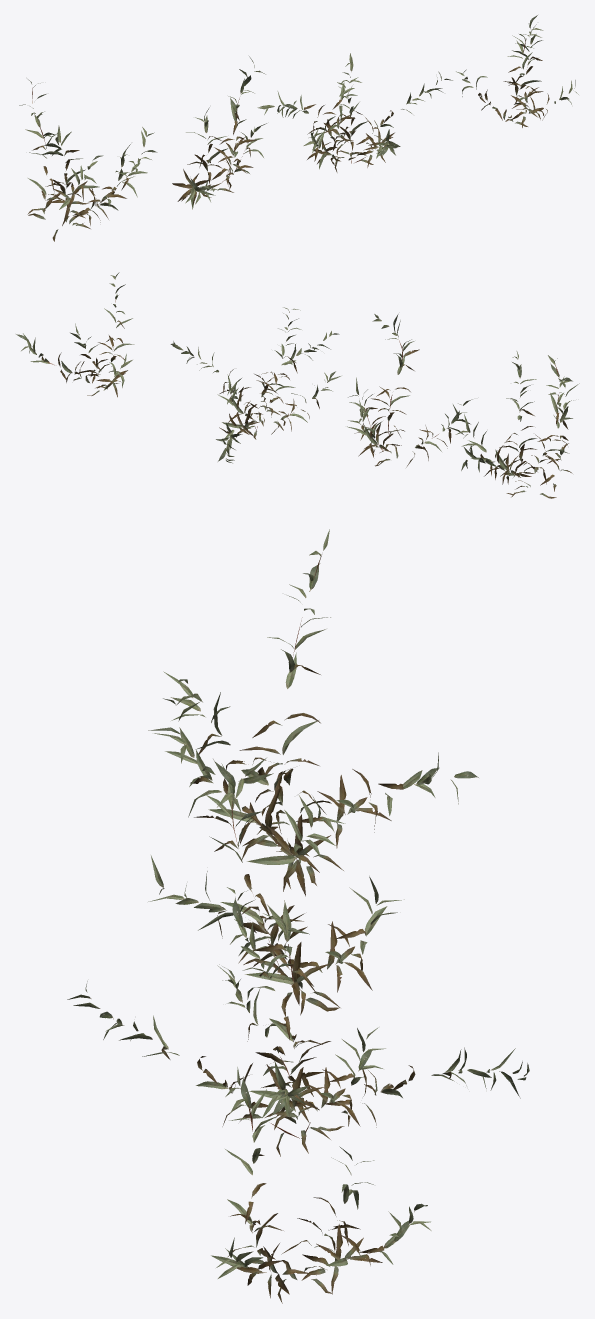
Rendered from shrub_a.glb.
3 renders of one model, top to bottom at view 1: azimuth 30°, elevation 25°; view 2: azimuth 150°, elevation 25°; view 3: azimuth 270°, elevation 25°, orthographic. The views are drawn at different scales.
Visible parts, largest first — view 1: shrub_02_c, shrub_02_a, shrub_02_b, shrub_02_d; view 2: shrub_02_a, shrub_02_c, shrub_02_b, shrub_02_d; view 3: shrub_02_a, shrub_02_c, shrub_02_b, shrub_02_d.
Part boxes in pixels (box(x1,y1,x2,y2)): shrub_02_c: box(257, 53, 452, 172); shrub_02_a: box(19, 79, 157, 241); shrub_02_b: box(172, 56, 266, 209); shrub_02_d: box(456, 15, 578, 127); shrub_02_a: box(455, 351, 579, 498); shrub_02_c: box(170, 307, 340, 463); shrub_02_b: box(347, 314, 472, 467); shrub_02_d: box(16, 272, 134, 397); shrub_02_a: box(148, 529, 478, 896); shrub_02_c: box(67, 887, 529, 1156); shrub_02_b: box(148, 758, 404, 1016); shrub_02_d: box(211, 1067, 431, 1303).
Size of the model in its own units: 6.05 by 1.7 by 2.28.
1 material, 1 textured.
